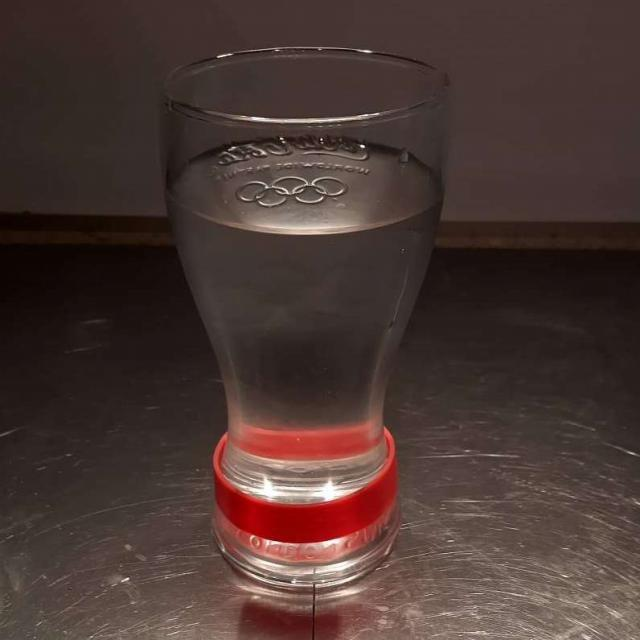water: (185, 143, 433, 491)
